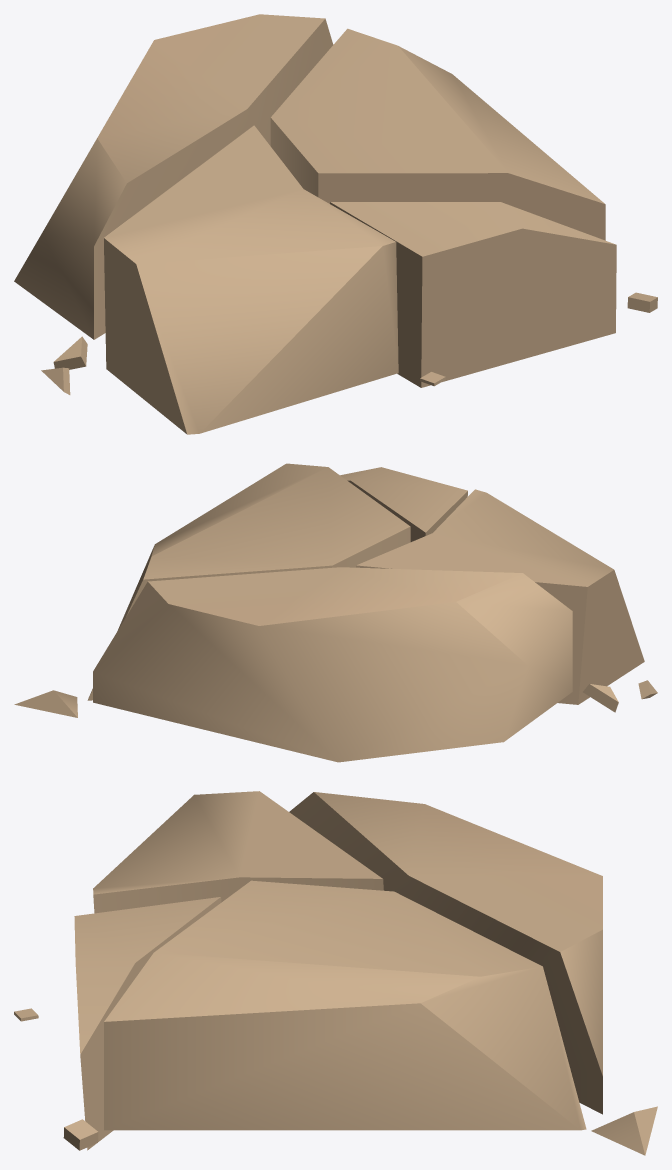
Rendered from rock-flat-crk-m-03.glb.
3 renders of one model, top to bottom at view 1: azimuth 30°, elevation 25°; view 2: azimuth 150°, elevation 25°; view 3: azimuth 270°, elevation 25°, orthographic. The views are drawn at different scales.
Parts seen in each view (by area): view 1: Rock_Flat_crk_m_03; view 2: Rock_Flat_crk_m_03; view 3: Rock_Flat_crk_m_03.
Boxes of the visible parts, left/top/right/bottom form: Rock_Flat_crk_m_03: left=14, top=14, right=657, bottom=434; Rock_Flat_crk_m_03: left=14, top=463, right=657, bottom=762; Rock_Flat_crk_m_03: left=14, top=791, right=657, bottom=1155.
Bounding box in the file's own units: 1.62 × 0.4757 × 1.59.
Materials: 1 (1 with a texture image).
